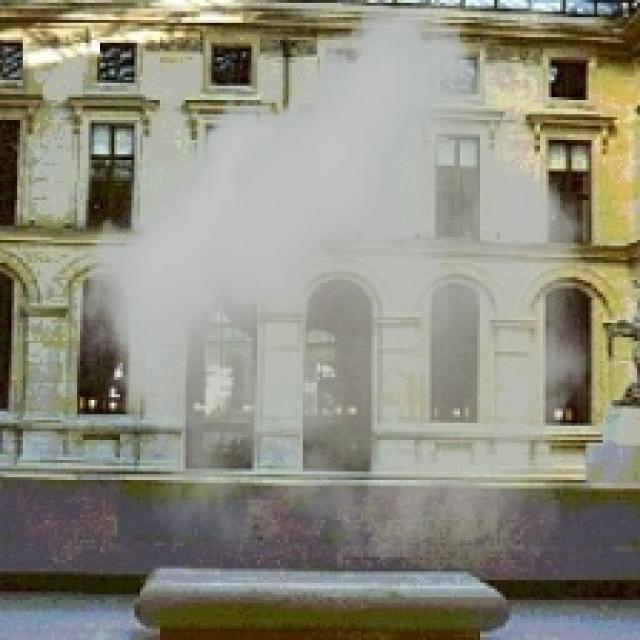Smoke: (77, 2, 592, 558)
